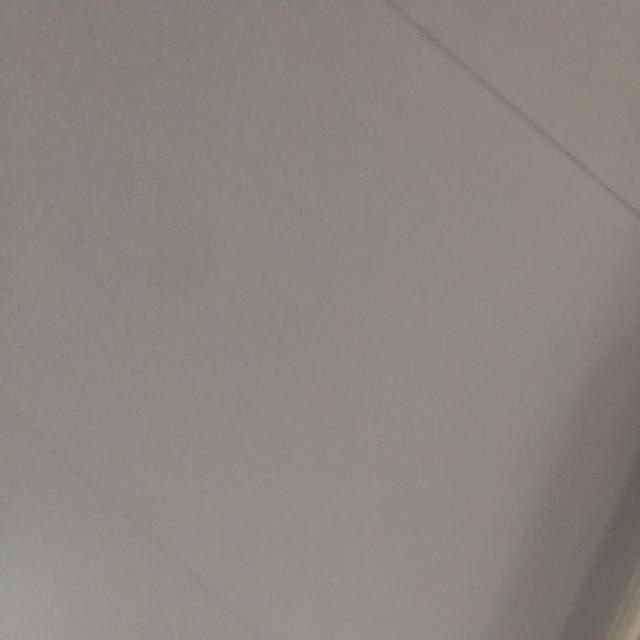fluorescent tube: (363, 62, 640, 640)
